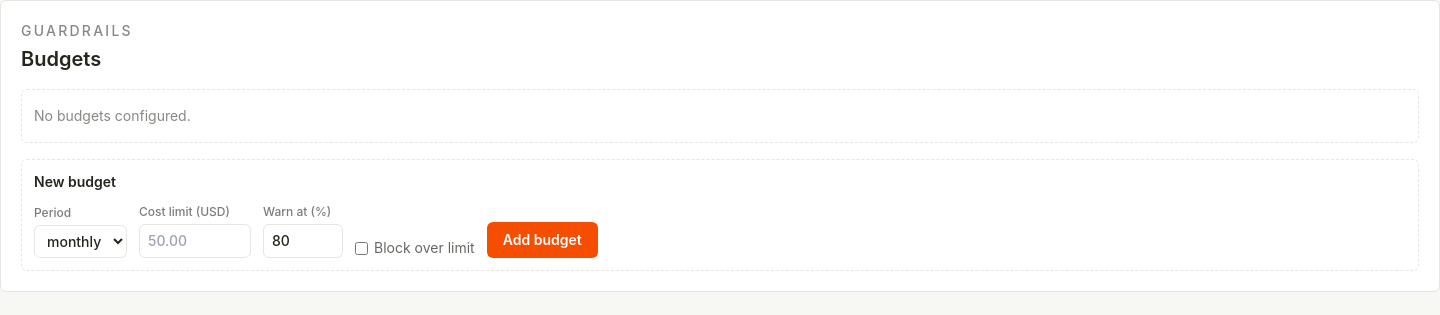
it: BudgetConfig › creates a budget through the form
The width and height of the screenshot is (1440, 315).
Expected: the text "No budgets configured." is shown, [21,89,1419,143]
Type "10" into the number field with placeholder "50.00" at coordinates (195, 241), box [139,224,251,258]
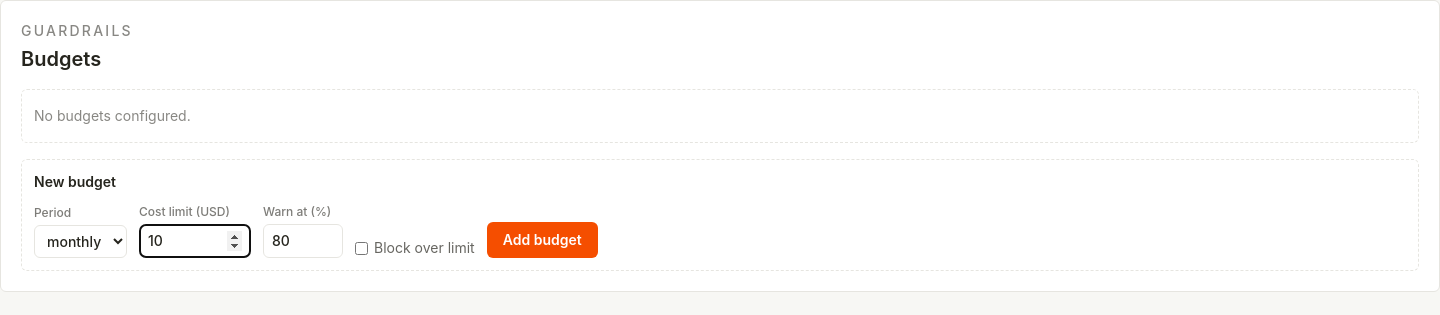
Click the button "Add budget" at coordinates (542, 240), box [487,222,598,258]
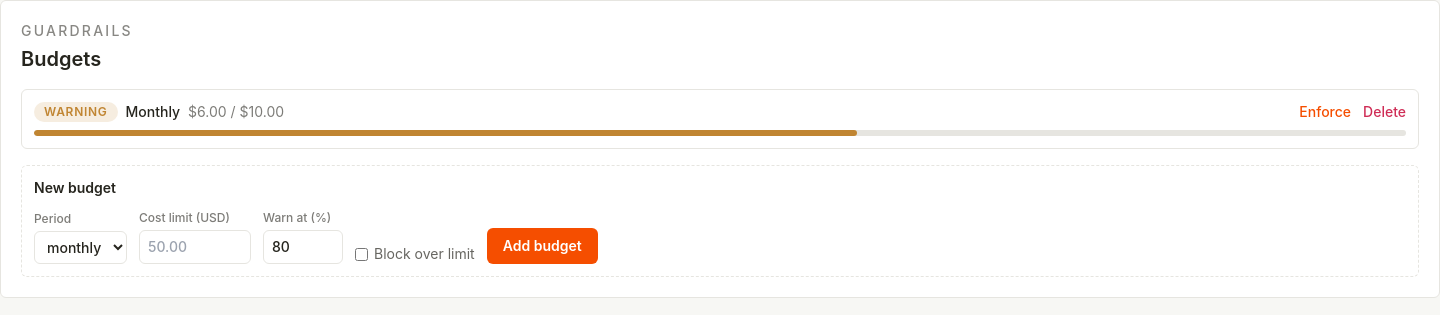
Result: the text "$6.00 / $10.00" is shown at [188,102,284,122]
